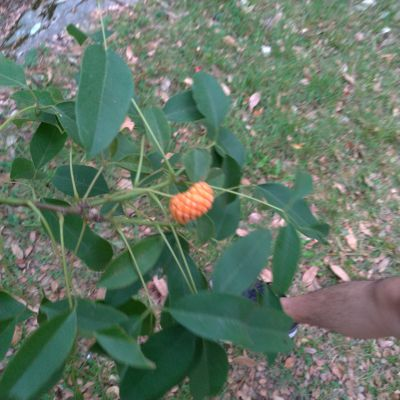eggs: (166, 175, 218, 225)
